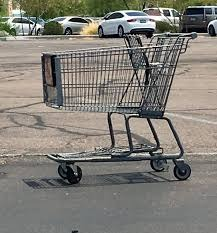with_basket: (42, 31, 195, 182)
